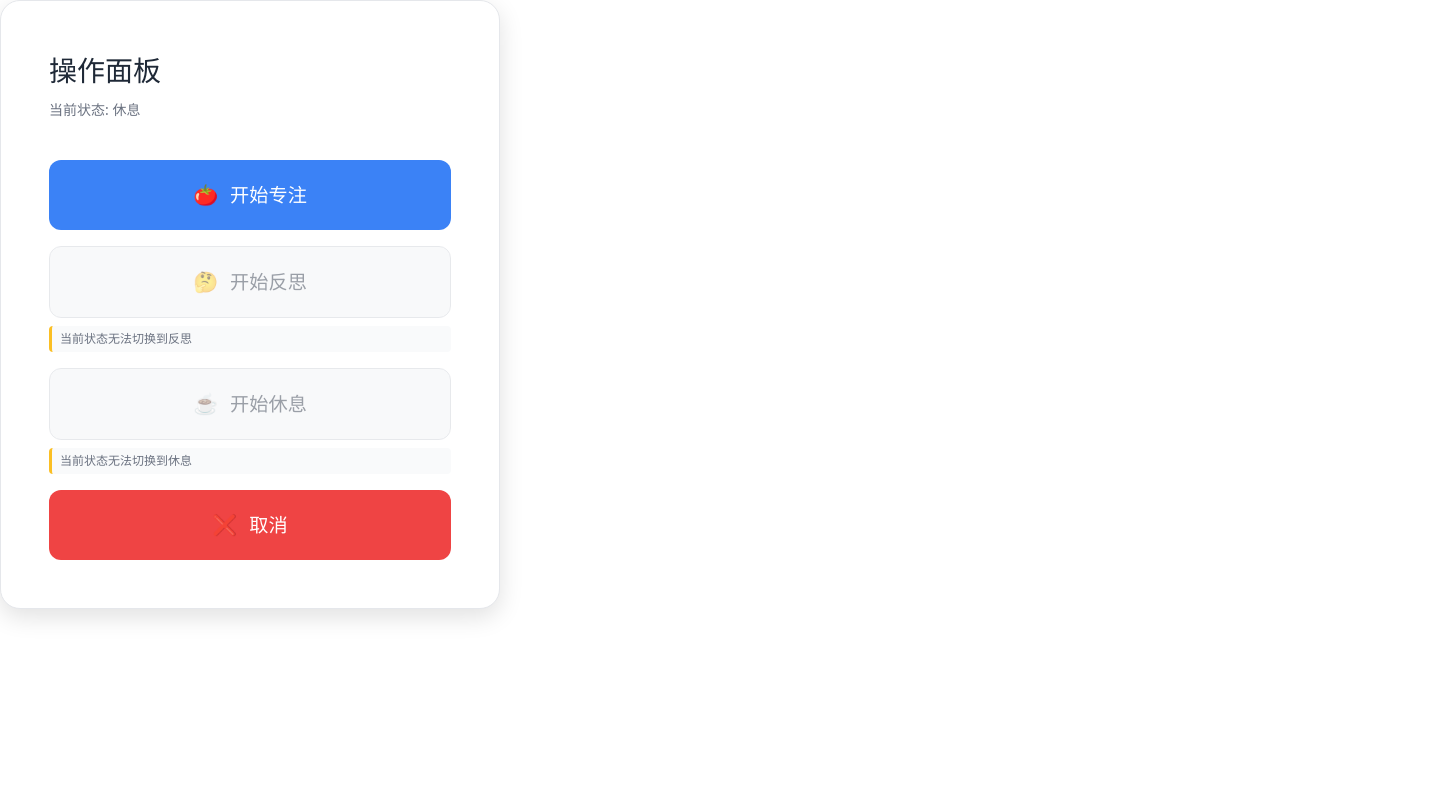
Test: ControlPanel › 按钮点击行为 › 应该在非空闲状态下显示确认对话框
The image size is (1440, 810).
Click the text "开始专注". click: (268,195)
box: x1=230 y1=181 x2=307 y2=209
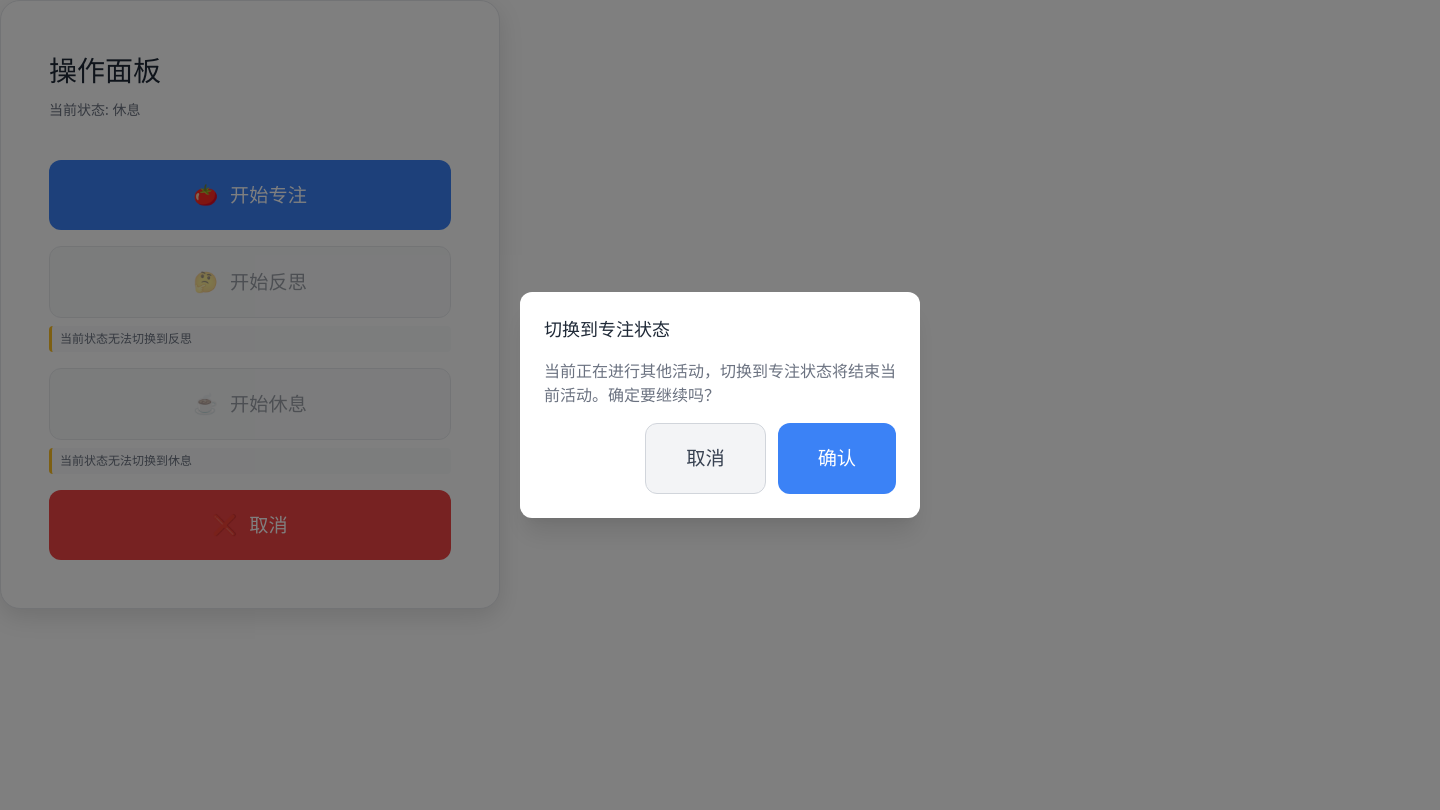
Result: the heading "切换到专注状态" is shown at x1=544 y1=317 x2=670 y2=341
Result: the text "当前正在进行其他活动，切换到专注状态将结束当前活动。确定要继续吗？" is shown at x1=544 y1=359 x2=896 y2=407
